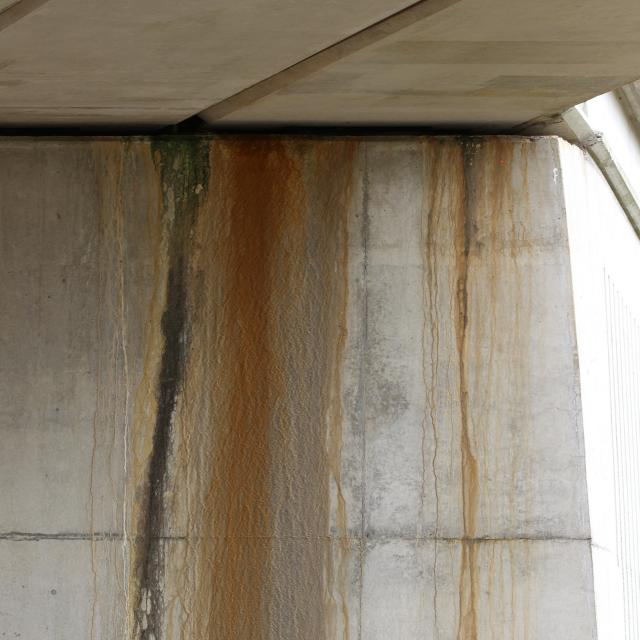corrosion: (85, 139, 369, 640), (412, 137, 546, 640)
